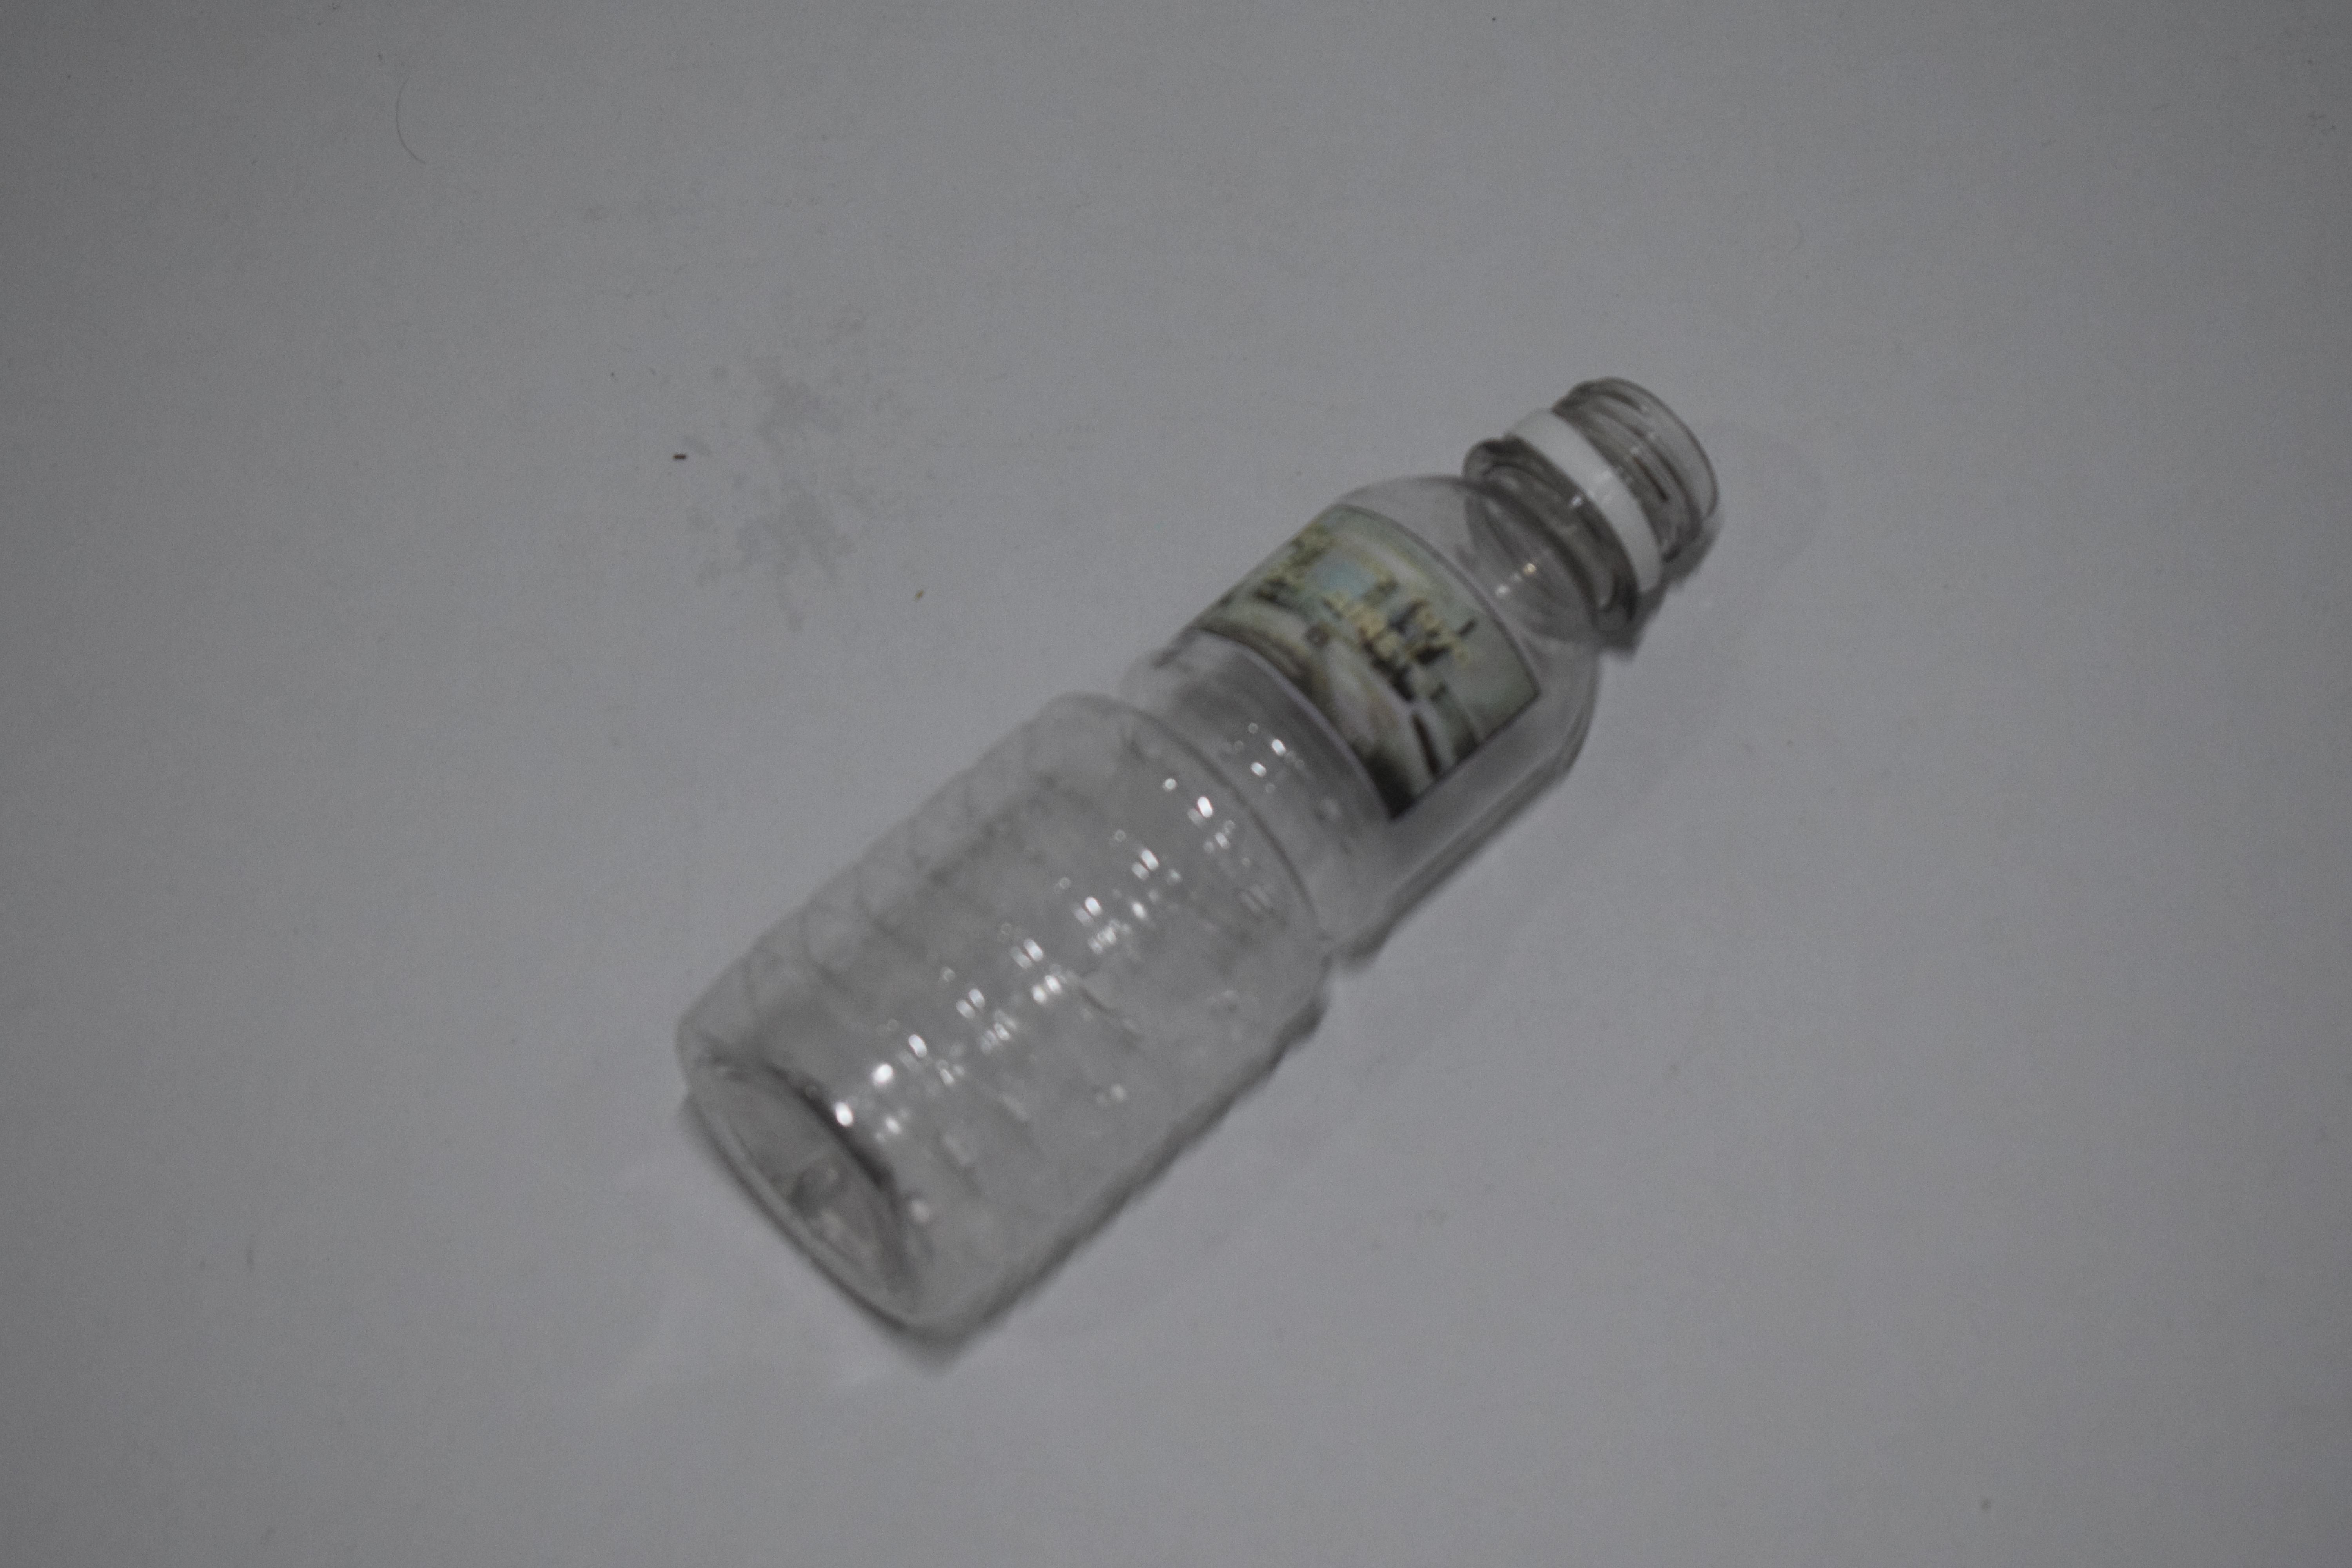bottle: (0, 0, 494, 563)
